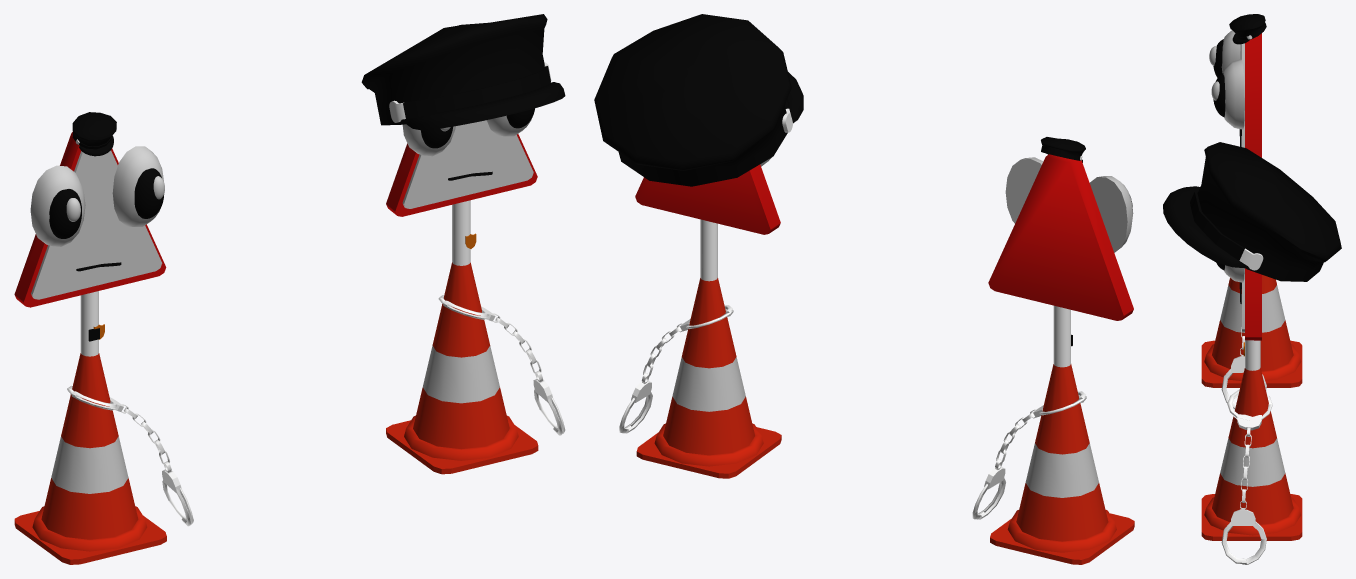
Rendered from policemanMan.obj.
3 views of the same model, side by side, from view 1: azimuth 30°, elevation 25°; view 2: azimuth 150°, elevation 25°; view 3: azimuth 270°, elevation 25° (orthographic). The views are drawn at different scales.
Visible parts, largest first — view 1: Gorra.002, Police_Man_Man, Police_Man_Man.007, Face.001, Face, Eye.001, Face_red_part.001, Eye_sclera.001, Face_red_part, Cube.007, Cube.009, Gorra.001 (+4 smaller); view 2: Gorra.002, Face_red_part.001, Police_Man_Man, Police_Man_Man.007, Face_red_part, Eye.001, Cube.007, Cube.009, Police_Man_Man.006, Police_Man_Man.001, Gorra.001; view 3: Gorra.002, Police_Man_Man, Police_Man_Man.007, Face_red_part.001, Cube.007, Eye.001, Face_red_part, Gorra.001, Eye_sclera.001, Cube.009, Police_Man_Man.001, Eye (+1 smaller).
Part boxes in pixels (x1,y1,x2,y2): Gorra.002: (361,14,565,130); Police_Man_Man: (386,262,538,474); Police_Man_Man.007: (14,353,166,564); Face.001: (31,150,162,299); Face: (402,120,533,208); Eye.001: (30,146,163,246); Face_red_part.001: (14,131,166,307); Eye_sclera.001: (49,168,164,238); Face_red_part: (386,134,537,216); Cube.007: (438,295,565,435); Cube.009: (67,386,193,526); Gorra.001: (72,112,116,156); Gorra.002: (594,14,803,186); Face_red_part.001: (988,154,1133,320); Police_Man_Man: (636,278,781,478); Police_Man_Man.007: (990,364,1134,564); Face_red_part: (635,164,780,234); Eye.001: (1005,157,1133,252); Cube.007: (619,305,733,433); Cube.009: (972,391,1086,519); Police_Man_Man.006: (1053,305,1070,367); Police_Man_Man.001: (700,219,717,281); Gorra.001: (1041,137,1085,162); Gorra.002: (1163,142,1341,281); Police_Man_Man: (1201,368,1302,540); Police_Man_Man.007: (1201,275,1302,387); Face_red_part.001: (1245,33,1261,157); Cube.007: (1221,389,1272,564); Eye.001: (1221,30,1244,129); Face_red_part: (1245,268,1261,340); Gorra.001: (1229,14,1266,44); Eye_sclera.001: (1213,39,1225,117); Cube.009: (1221,327,1266,409); Police_Man_Man.001: (1245,340,1260,370); Eye: (1224,265,1244,282).
Size of the model in its own units: 4.83 by 3.81 by 1.65.
